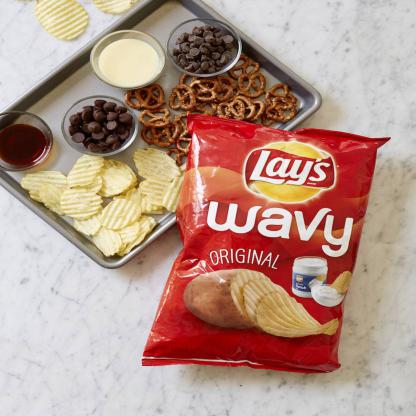potatochip: (134, 105, 396, 378)
